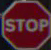Stop: (0, 0, 50, 43)
